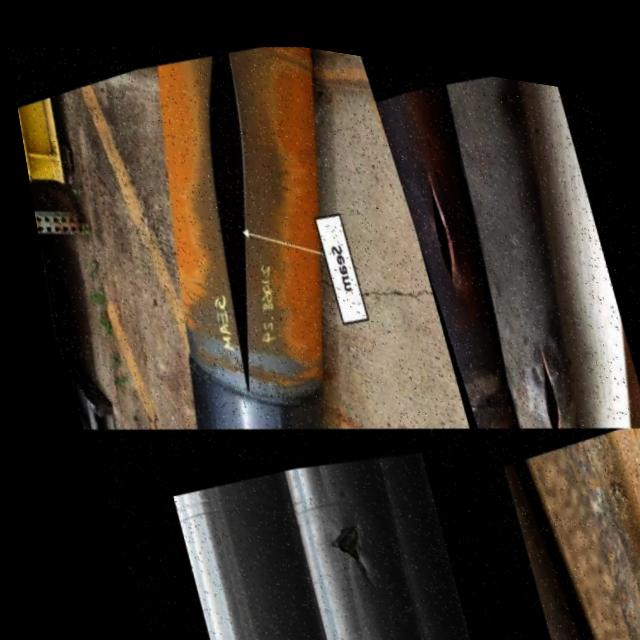crack: (620, 542, 640, 622)
hole: (298, 495, 361, 565)
rupture: (197, 41, 248, 377), (421, 150, 451, 265), (530, 323, 554, 414)
